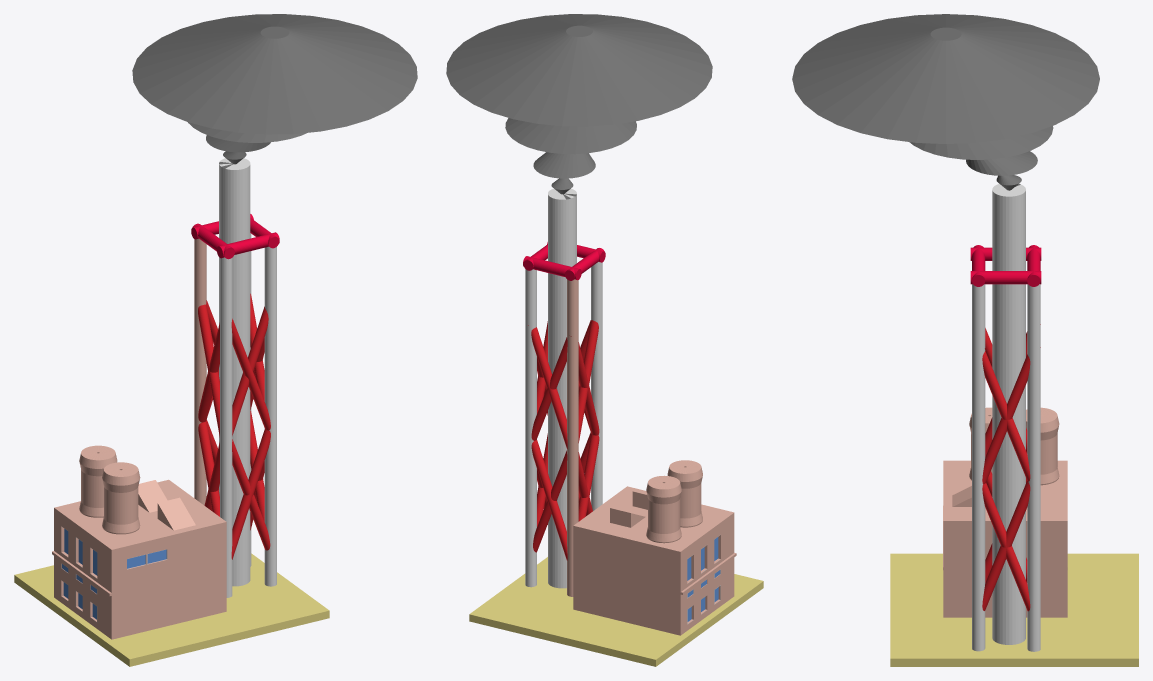
Rendered from hatudennsyo_model.fbx.
3 views of the same model, side by side, from view 1: azimuth 30°, elevation 25°; view 2: azimuth 150°, elevation 25°; view 3: azimuth 270°, elevation 25° (orthographic). The views are drawn at different scales.
Parts seen in each view (by area): view 1: 立方体; view 2: 立方体; view 3: 立方体.
Boxes of the visible parts, left/top/right/bottom form: 立方体: left=14, top=14, right=417, bottom=666; 立方体: left=446, top=14, right=763, bottom=666; 立方体: left=792, top=14, right=1138, bottom=666.
Size of the model in its own units: 660 by 1226 by 624.
